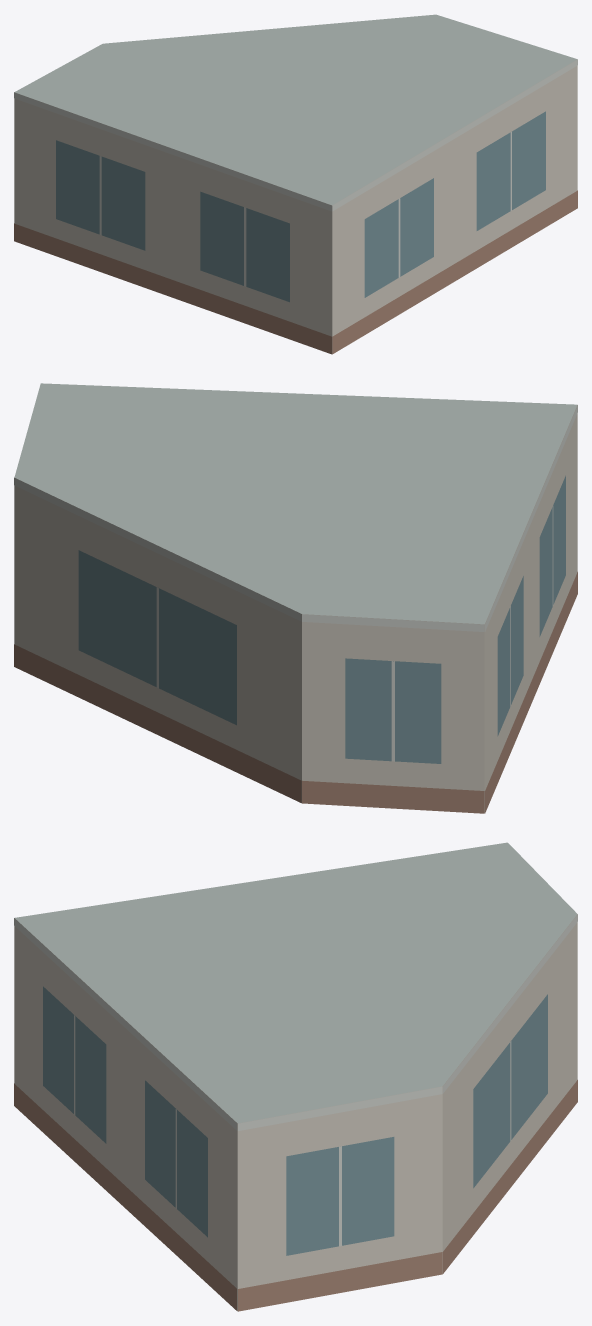
Rendered from survey-upis-33004272.glb.
3 renders of one model, top to bottom at view 1: azimuth 30°, elevation 25°; view 2: azimuth 150°, elevation 25°; view 3: azimuth 270°, elevation 25°, orthographic. The views are drawn at different scales.
Parts seen in each view (by area): view 1: survey-upis-33004272.tmp; view 2: survey-upis-33004272.tmp; view 3: survey-upis-33004272.tmp.
Boxes of the visible parts, x1=… form: survey-upis-33004272.tmp: x1=14, y1=14, x2=577, y2=354; survey-upis-33004272.tmp: x1=14, y1=383, x2=577, y2=813; survey-upis-33004272.tmp: x1=14, y1=842, x2=577, y2=1311.
Size of the model in its own units: 9.8 by 3.05 by 8.3.
